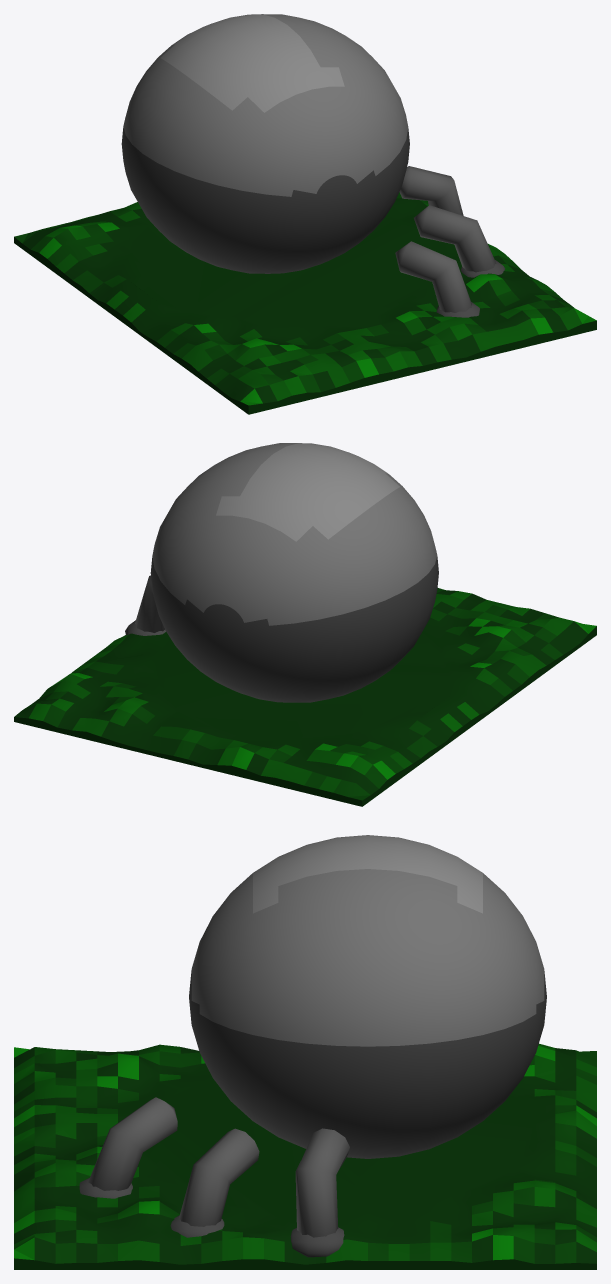
File: eye_orb_83.glb
The picture shows the model from 3 angles, top to bottom: view 1: azimuth 30°, elevation 25°; view 2: azimuth 150°, elevation 25°; view 3: azimuth 270°, elevation 25°; orthographic projection. The views are drawn at different scales.
Parts seen in each view (by area): view 1: orb, foliage, bracket0, bracket1, bracket2; view 2: orb, foliage, bracket2; view 3: orb, foliage, bracket2, bracket0, bracket1, bracket_foot2, bracket_foot0.
Boxes of the visible parts, x1,y1,x2,y2 form: orb: (121, 14, 409, 273); foliage: (14, 192, 596, 414); bracket0: (414, 205, 496, 272); bracket1: (395, 241, 471, 312); bracket2: (399, 166, 463, 215); orb: (150, 443, 438, 702); foliage: (14, 588, 596, 806); bracket2: (135, 575, 164, 632); orb: (189, 835, 546, 1158); foliage: (14, 1043, 596, 1269); bracket2: (295, 1128, 349, 1237); bracket0: (179, 1128, 259, 1226); bracket1: (88, 1097, 177, 1190); bracket_foot2: (290, 1227, 344, 1257); bracket_foot0: (170, 1215, 224, 1237).
Size of the model in its own units: 24 by 16 by 28.
